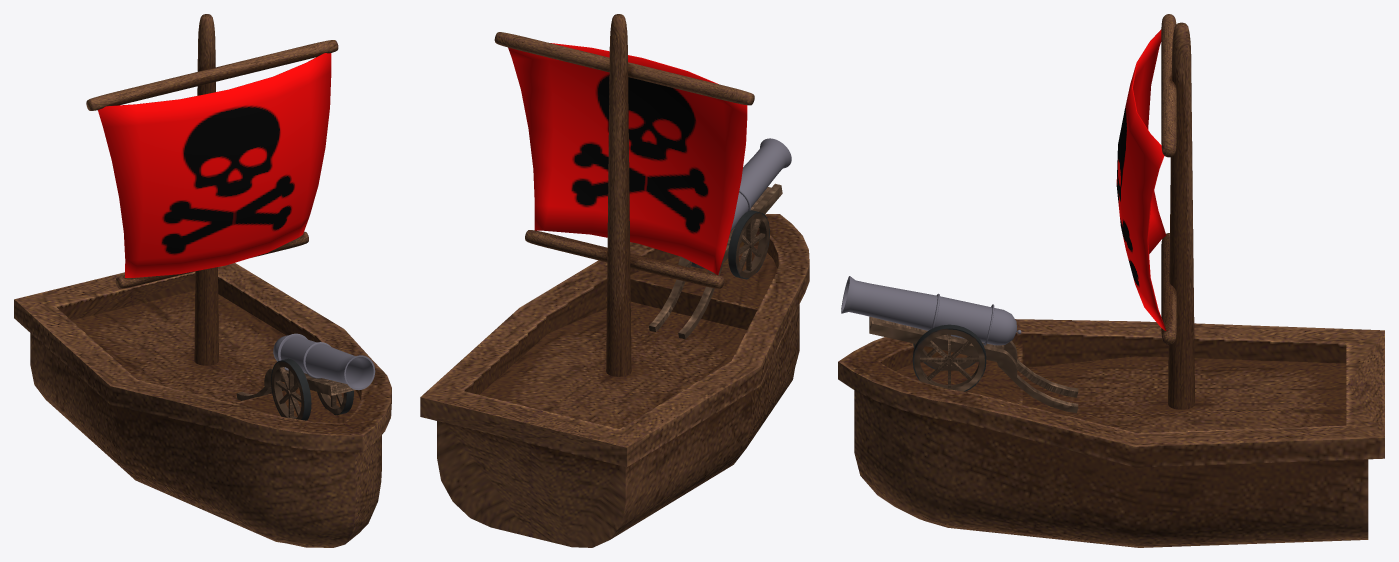
Rendered from Enemy_CannonShip_01.fbx.
3 renders of one model, left to right at view 1: azimuth 30°, elevation 25°; view 2: azimuth 150°, elevation 25°; view 3: azimuth 270°, elevation 25°, orthographic. The views are drawn at different scales.
Visible parts, largest first — view 1: Enemy_CannonShip_01; view 2: Enemy_CannonShip_01; view 3: Enemy_CannonShip_01.
Boxes of the visible parts, bbox=[...] form: Enemy_CannonShip_01: bbox=[14, 14, 391, 547]; Enemy_CannonShip_01: bbox=[420, 14, 809, 547]; Enemy_CannonShip_01: bbox=[838, 14, 1384, 547].
Bounding box in the file's own units: 539 × 926 × 941.
